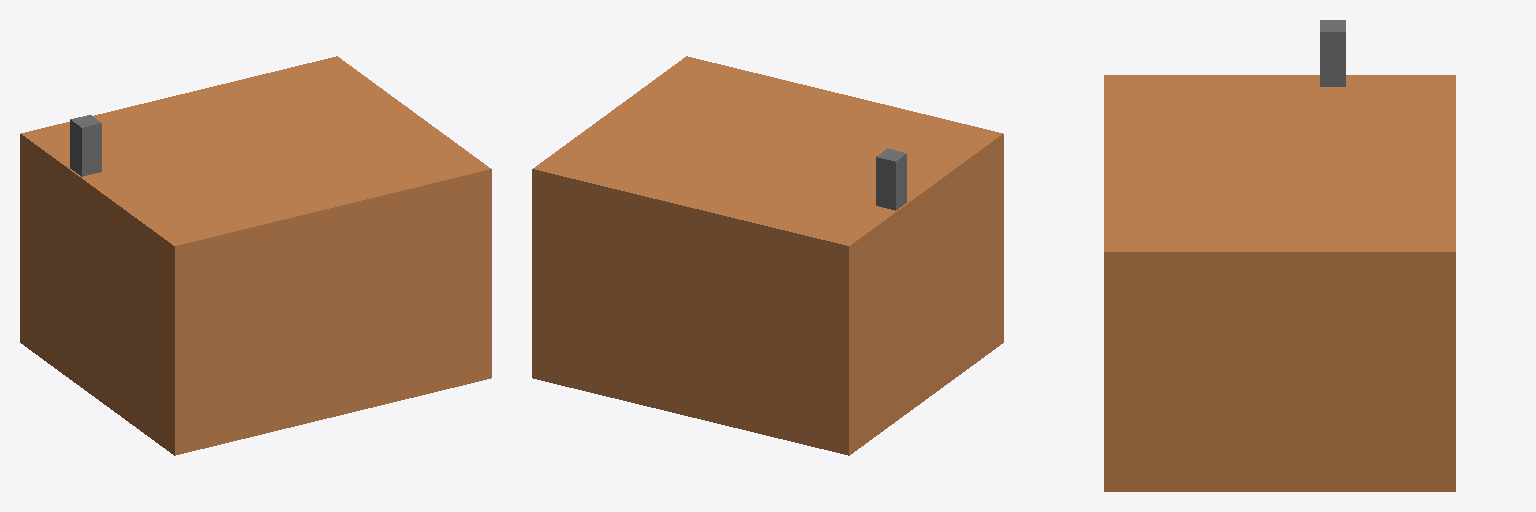
The robot description file, URDF, robot "table_mallet_hammer_swing_down":
<?xml version="1.0"?>
<robot name="table_mallet_hammer_swing_down">
  <link name="box">
    <visual>
      <material name="wood">
        <color rgba="0.82 0.56 0.35 1.0"/>
      </material>
      <origin xyz="0 0 0"/>
      <geometry>
        <box size="0.475 0.4 0.3"/>
      </geometry>
    </visual>
    <collision>
      <origin xyz="0 0 0"/>
      <geometry>
        <box size="0.475 0.4 0.3"/>
      </geometry>
    </collision>
    <!-- Nail -->
    <visual>
      <material name="grey">
        <color rgba="0.5 0.5 0.5 1.0"/>
      </material>
      <origin xyz="-0.22 0.06 0.175"/>
      <geometry>
        <box size="0.03 0.03 0.09"/>
      </geometry>
    </visual>
    <collision>
      <origin xyz="-0.22 0.06 0.175"/>
      <geometry>
        <box size="0.03 0.03 0.09"/>
      </geometry>
    </collision>
    <inertial>
      <mass value="500"/>
      <friction value="1.0"/>
      <inertia ixx="1000.0" ixy="0.0" ixz="0.0" iyy="1000.0" iyz="0.0" izz="1000.0"/>
    </inertial>
  </link>
</robot>

--- Render facts (derived) ---
Views: 3 orthographic renders of the robot side by side, from view 1: azimuth 30°, elevation 25°; view 2: azimuth 150°, elevation 25°; view 3: azimuth 270°, elevation 25°.
Model table_mallet_hammer_swing_down with 1 links and 0 joints (none), rooted at box, posed all joints at 0.
Visible links, largest first — view 1: box; view 2: box; view 3: box.
Boxes of the visible links, left/top/right/bottom form: box: left=20, top=56, right=491, bottom=455; box: left=532, top=56, right=1003, bottom=455; box: left=1104, top=20, right=1455, bottom=491.
Size in the robot's own frame: 0.475 by 0.4 by 0.37 metres.
Geometry: primitives only (box / cylinder / sphere), no mesh files.
